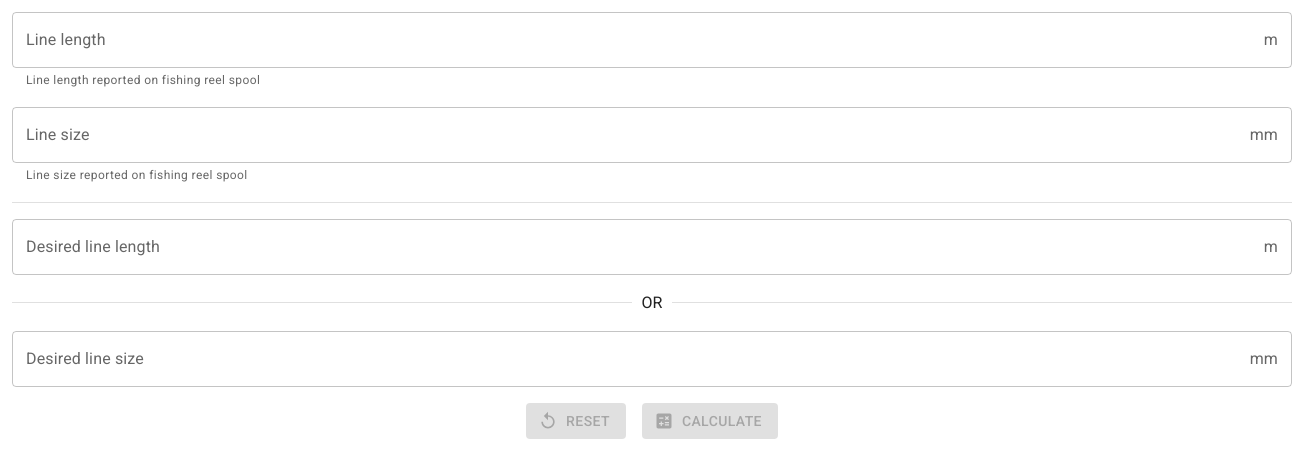
it: disabled desired line length input
Type "1" into the field labelled "Line length". click: (634, 40)
box: [12,12,1256,68]
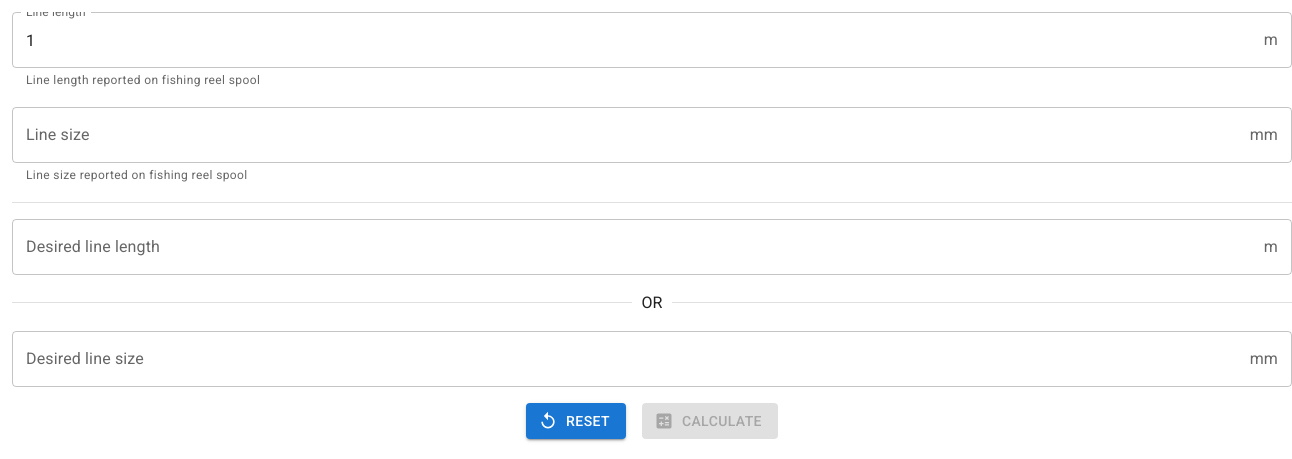
Type "1" into the field labelled "Line size". click: (627, 135)
box: [12,107,1242,163]
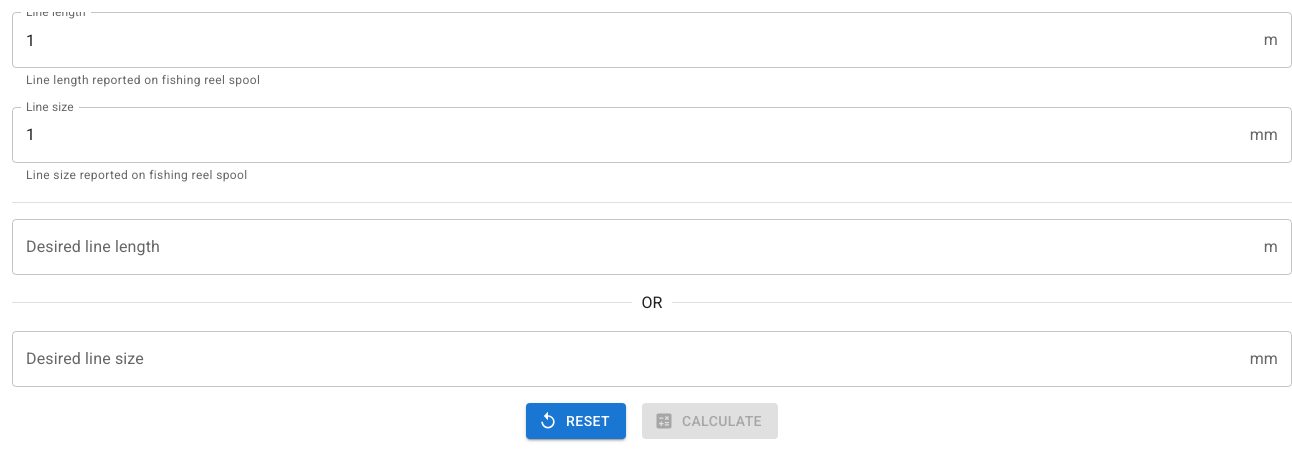
Type "1" into the field labelled "Desired line size". click: (627, 359)
box: [12,331,1242,387]
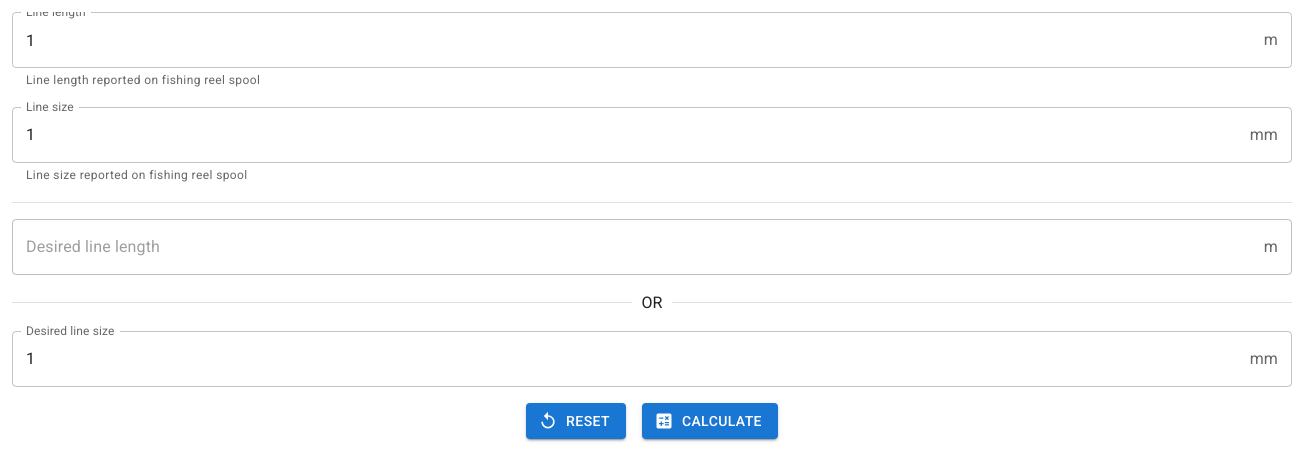
Check: the field labelled "Desired line length" is disabled, box [12,219,1256,275]
